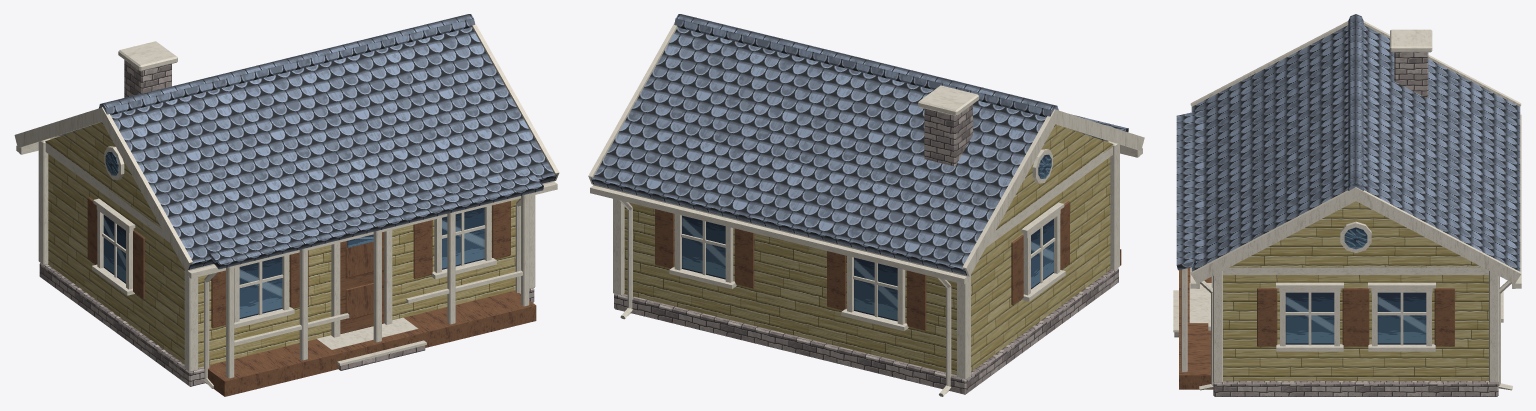
The model's file is house_b.glb.
The picture shows the model from 3 angles, left to right: view 1: azimuth 30°, elevation 25°; view 2: azimuth 150°, elevation 25°; view 3: azimuth 270°, elevation 25°; orthographic projection. The views are drawn at different scales.
Visible parts, largest first — view 1: House; view 2: House; view 3: House.
Boxes of the visible parts, box(x1,y1,x2,y2) form: House: box(14, 14, 559, 396); House: box(588, 14, 1144, 396); House: box(1173, 14, 1521, 396).
Bounding box in the file's own units: 8.79 × 5.5 × 7.57.
4 materials, 4 textured.
